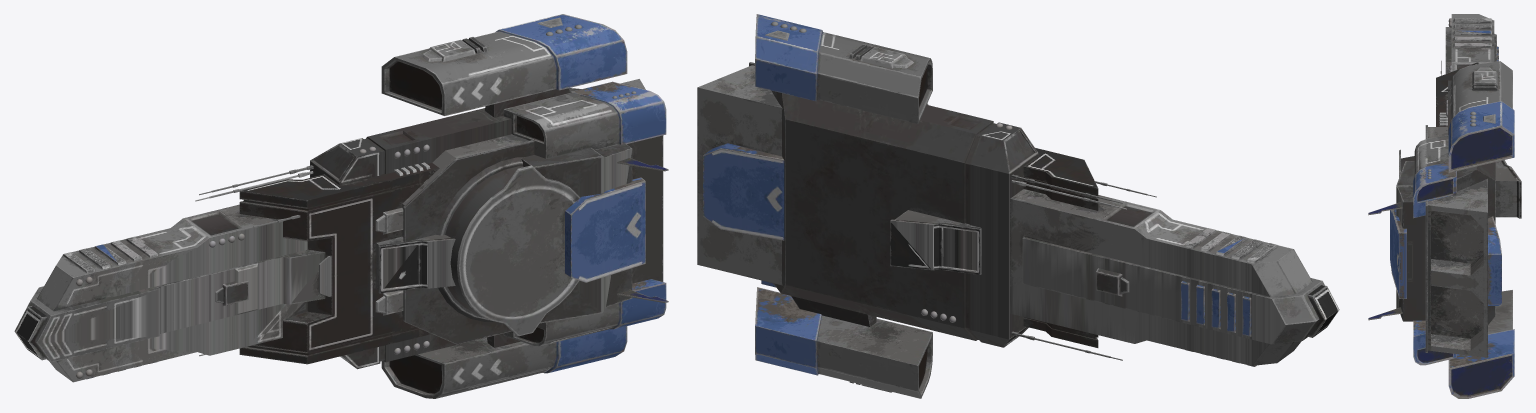
The model's file is open-raider.glb.
3 renders of one model, left to right at view 1: azimuth 30°, elevation 25°; view 2: azimuth 150°, elevation 25°; view 3: azimuth 270°, elevation 25°, orthographic. The views are drawn at different scales.
Parts seen in each view (by area): view 1: Insurgent; view 2: Insurgent; view 3: Insurgent.
Boxes of the visible parts, x1,y1,x2,y2 form: Insurgent: (14, 14, 668, 398); Insurgent: (697, 14, 1339, 398); Insurgent: (1368, 14, 1521, 398).
Bounding box in the file's own units: 39.86 × 20.26 × 10.45.
Materials: 1 (1 with a texture image).
